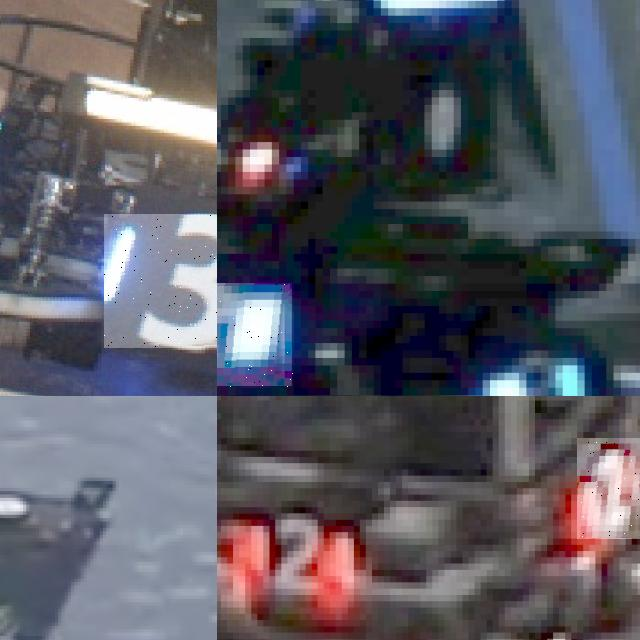B3: (104, 213, 217, 348)
Bs: (217, 283, 293, 387), (475, 335, 599, 396)
R2: (233, 507, 366, 614), (577, 438, 640, 538)
